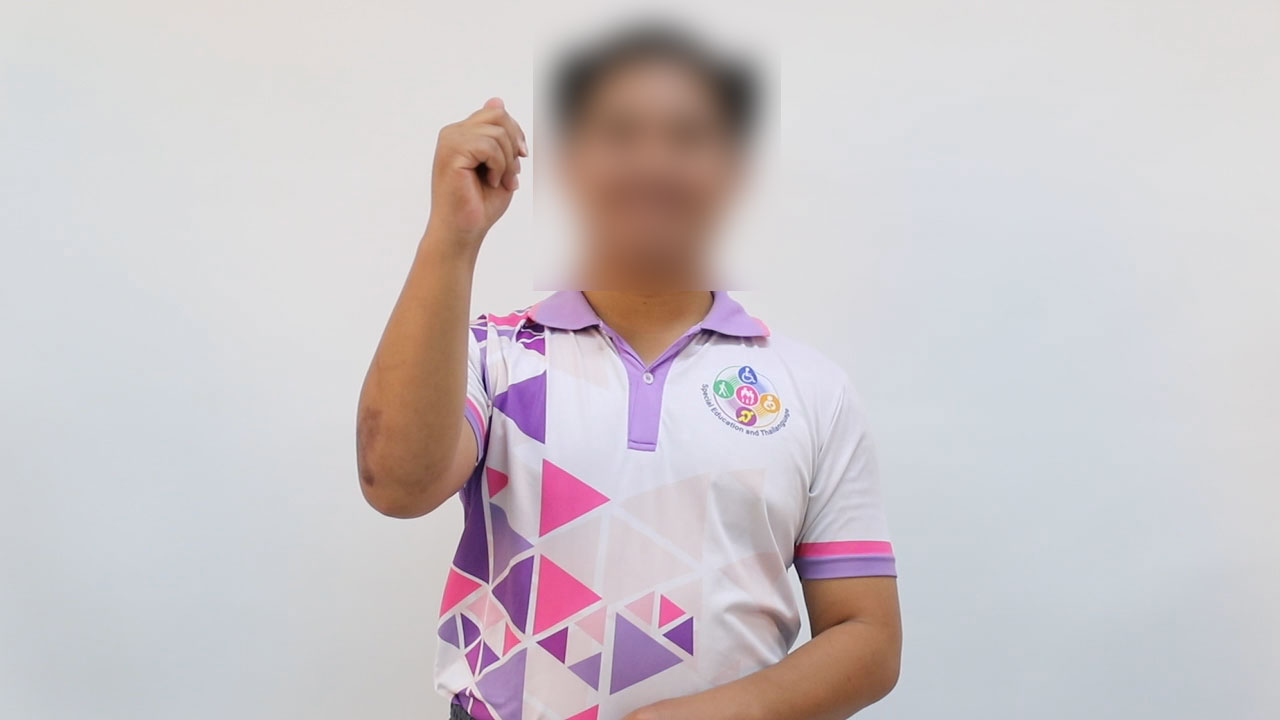tor: (408, 84, 547, 258)
